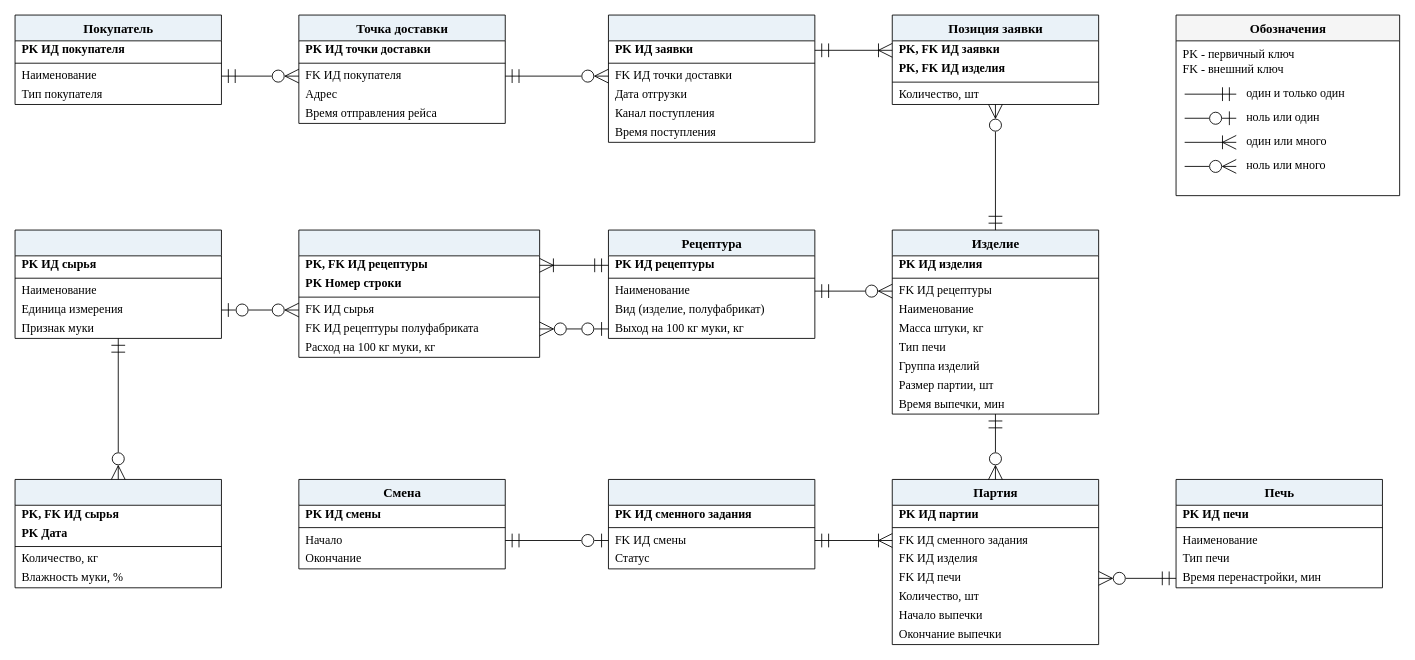
Image size: 1415x660. Some labels were removed from this diagram. Each missing label, with the box of its shape:
Заявка: (608, 14, 815, 142)
Компонент рецептуры: (298, 229, 540, 357)
Остаток сырья: (14, 479, 221, 588)
Сменное задание: (608, 479, 815, 569)
Сырьё: (14, 229, 221, 338)
